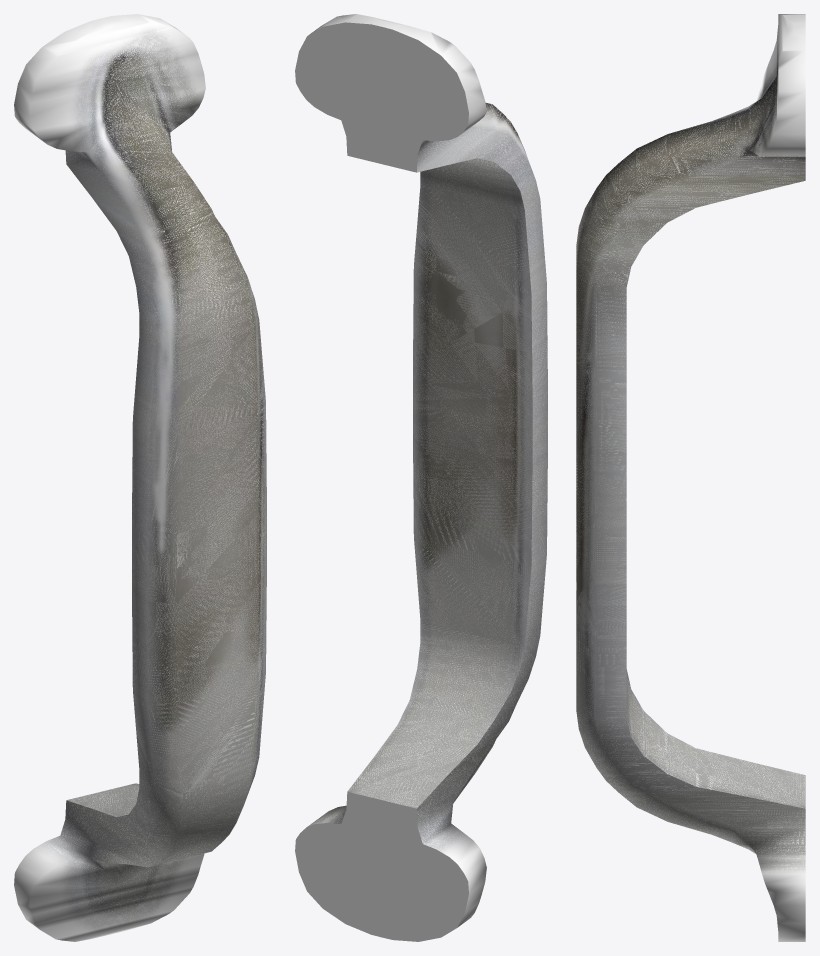
The model's file is original-50.obj.
The picture shows the model from 3 angles, left to right: view 1: azimuth 30°, elevation 25°; view 2: azimuth 150°, elevation 25°; view 3: azimuth 270°, elevation 25°; orthographic projection.
Visible parts, largest first — view 1: _7033_TR1/_7033_TR/mesh35/mesh35-geometry#mesh35-geometry; view 2: _7033_TR1/_7033_TR/mesh35/mesh35-geometry#mesh35-geometry; view 3: _7033_TR1/_7033_TR/mesh35/mesh35-geometry#mesh35-geometry.
Part boxes in pixels (x1=…): _7033_TR1/_7033_TR/mesh35/mesh35-geometry#mesh35-geometry: x1=14, y1=14, x2=266, y2=941; _7033_TR1/_7033_TR/mesh35/mesh35-geometry#mesh35-geometry: x1=295, y1=14, x2=547, y2=941; _7033_TR1/_7033_TR/mesh35/mesh35-geometry#mesh35-geometry: x1=576, y1=14, x2=805, y2=941.
Bounding box in the file's own units: 0.0421 × 0.2107 × 0.0487.
